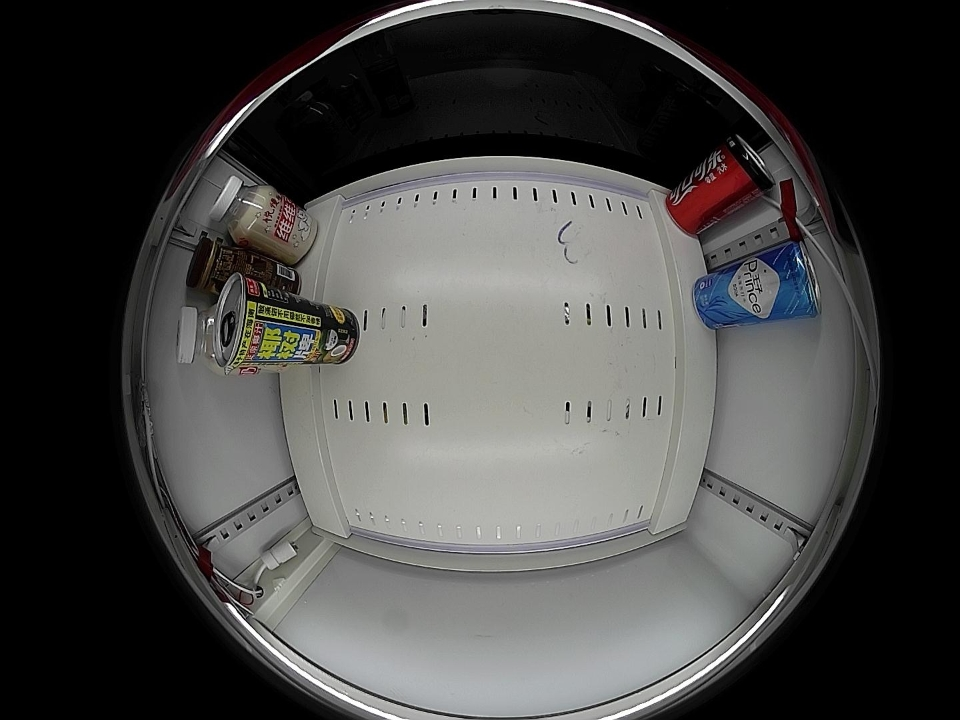lingdukele: (717, 133, 773, 197)
lujikafei: (186, 236, 242, 294)
qingdaowangzi-2: (769, 241, 821, 319)
weiweidounai: (208, 175, 276, 245), (177, 305, 230, 376)
yezhi: (211, 271, 270, 370)
